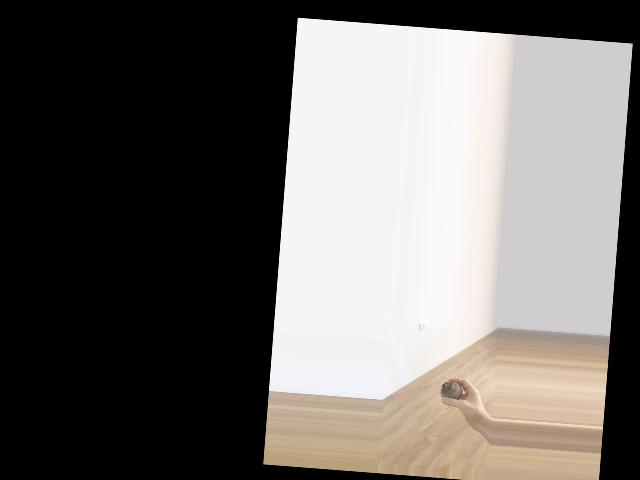beet: (438, 379, 463, 410)
